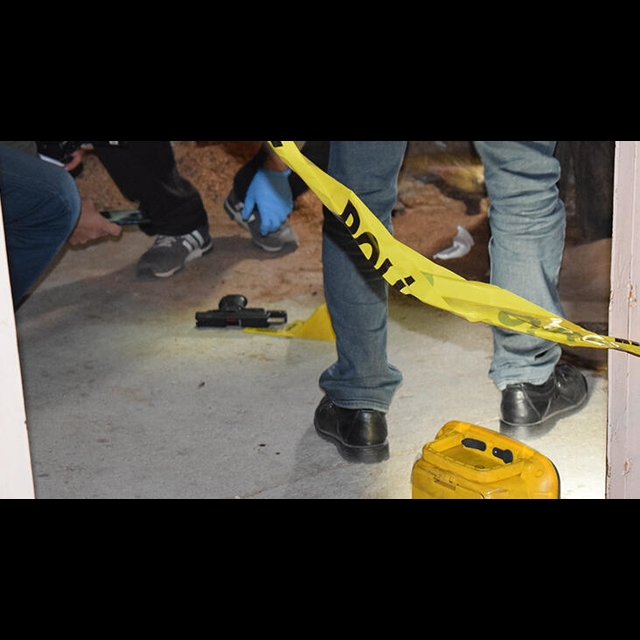SILAH: (191, 286, 296, 330)
